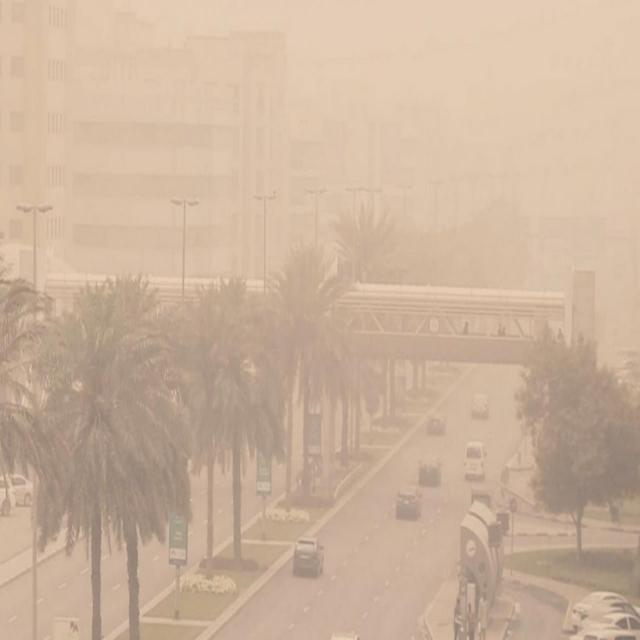Car: (291, 539, 327, 580), (393, 485, 422, 521), (464, 440, 487, 479), (418, 452, 443, 486), (471, 393, 489, 418), (427, 413, 445, 432)
